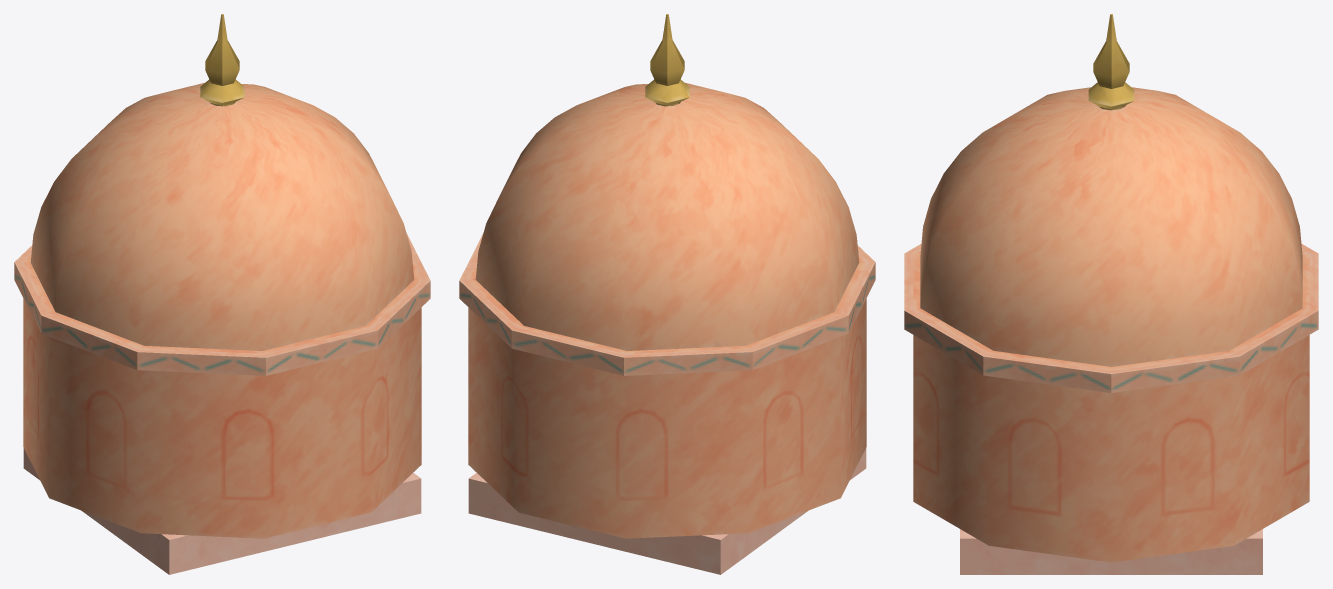
The model's file is dome_low.fbx.
The picture shows the model from 3 angles, left to right: view 1: azimuth 30°, elevation 25°; view 2: azimuth 150°, elevation 25°; view 3: azimuth 270°, elevation 25°; orthographic projection. The views are drawn at different scales.
Visible parts, largest first — view 1: dome; view 2: dome; view 3: dome.
Boxes of the visible parts, x1,y1,x2,y2 form: dome: [14, 14, 430, 574]; dome: [459, 14, 875, 574]; dome: [904, 14, 1318, 574].
Bounding box in the file's own units: 11.5 × 14.45 × 10.94.
1 material, 1 textured.
